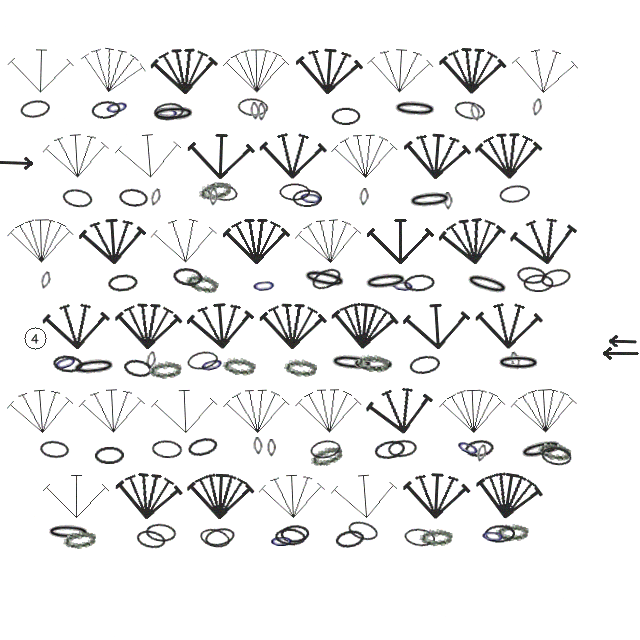chain: (463, 270, 511, 299), (518, 436, 565, 463), (301, 266, 348, 292), (363, 270, 409, 293), (308, 442, 345, 470), (309, 264, 344, 293), (407, 189, 453, 211), (71, 356, 117, 378), (329, 352, 375, 374), (392, 99, 438, 119), (151, 104, 196, 124), (197, 178, 233, 203), (346, 518, 380, 544), (184, 271, 220, 295), (351, 355, 396, 374), (46, 523, 91, 542), (205, 180, 239, 204), (539, 266, 573, 290), (203, 525, 237, 549), (198, 526, 232, 550), (496, 354, 541, 372), (62, 528, 97, 551), (186, 435, 219, 459), (453, 435, 483, 461), (537, 440, 572, 462), (453, 99, 486, 122), (186, 349, 219, 372), (408, 353, 441, 376), (373, 438, 406, 461), (122, 357, 154, 380), (135, 528, 167, 551), (61, 187, 94, 209), (498, 183, 531, 205), (309, 438, 342, 460), (540, 445, 573, 467), (51, 350, 80, 375), (148, 359, 182, 380), (19, 98, 51, 120), (334, 528, 366, 550), (403, 527, 436, 548), (222, 356, 256, 376), (356, 353, 390, 373), (419, 527, 453, 547), (495, 522, 529, 542), (90, 99, 122, 120), (153, 101, 185, 122), (145, 522, 177, 543), (118, 187, 149, 208), (172, 266, 203, 287), (516, 265, 547, 286), (39, 439, 70, 460), (387, 438, 418, 459), (464, 438, 495, 459), (198, 353, 226, 376), (237, 97, 269, 117), (403, 273, 435, 293), (151, 439, 183, 459), (274, 527, 306, 547), (284, 358, 317, 377), (107, 273, 138, 293), (52, 354, 83, 374), (103, 96, 131, 118), (484, 524, 515, 543), (280, 524, 310, 543), (389, 275, 416, 296), (279, 183, 310, 201), (523, 274, 554, 292), (331, 107, 361, 125), (292, 189, 322, 207), (94, 446, 124, 464), (298, 188, 324, 208), (480, 526, 506, 546), (154, 103, 180, 122), (251, 276, 277, 295), (269, 532, 294, 550), (469, 103, 482, 122), (149, 188, 162, 207), (39, 271, 52, 290), (509, 351, 522, 370), (475, 444, 488, 463), (531, 98, 543, 117), (145, 351, 157, 370), (250, 102, 260, 120), (359, 188, 369, 206), (443, 192, 453, 210), (253, 437, 263, 455), (257, 103, 266, 121), (209, 188, 218, 206), (267, 439, 276, 457)
fan: (75, 40, 150, 101), (364, 381, 437, 440), (472, 466, 545, 525), (508, 212, 581, 270), (437, 213, 509, 269), (113, 468, 184, 524), (329, 298, 400, 353), (114, 128, 184, 183), (186, 298, 256, 353), (294, 44, 364, 98), (510, 44, 580, 98), (402, 129, 472, 183), (78, 214, 148, 268), (294, 214, 364, 268), (402, 299, 472, 353), (6, 384, 76, 438), (330, 469, 400, 523), (366, 44, 435, 97), (438, 44, 507, 97), (42, 129, 111, 182), (150, 214, 219, 267), (78, 384, 147, 437), (510, 384, 579, 437), (402, 469, 471, 522), (150, 45, 219, 97), (42, 300, 111, 352), (114, 300, 183, 352), (186, 470, 255, 522), (258, 470, 327, 522), (187, 130, 255, 182), (331, 130, 399, 182), (259, 300, 327, 352), (151, 385, 219, 437), (223, 385, 291, 437), (439, 385, 507, 437), (7, 45, 75, 96), (259, 130, 327, 181), (475, 130, 543, 181), (7, 215, 75, 266), (475, 300, 543, 351), (295, 385, 363, 436), (223, 45, 290, 96), (223, 216, 290, 266), (367, 216, 434, 266), (43, 471, 110, 521)
noise: (22, 325, 48, 351), (600, 346, 639, 361), (0, 155, 35, 171), (606, 335, 637, 347)
